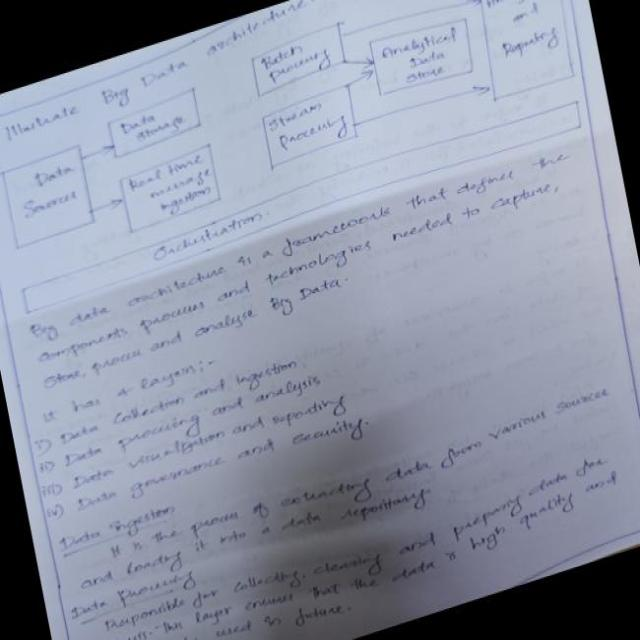Figure Detection - v3 Dataset Version2: (0, 0, 599, 325)
